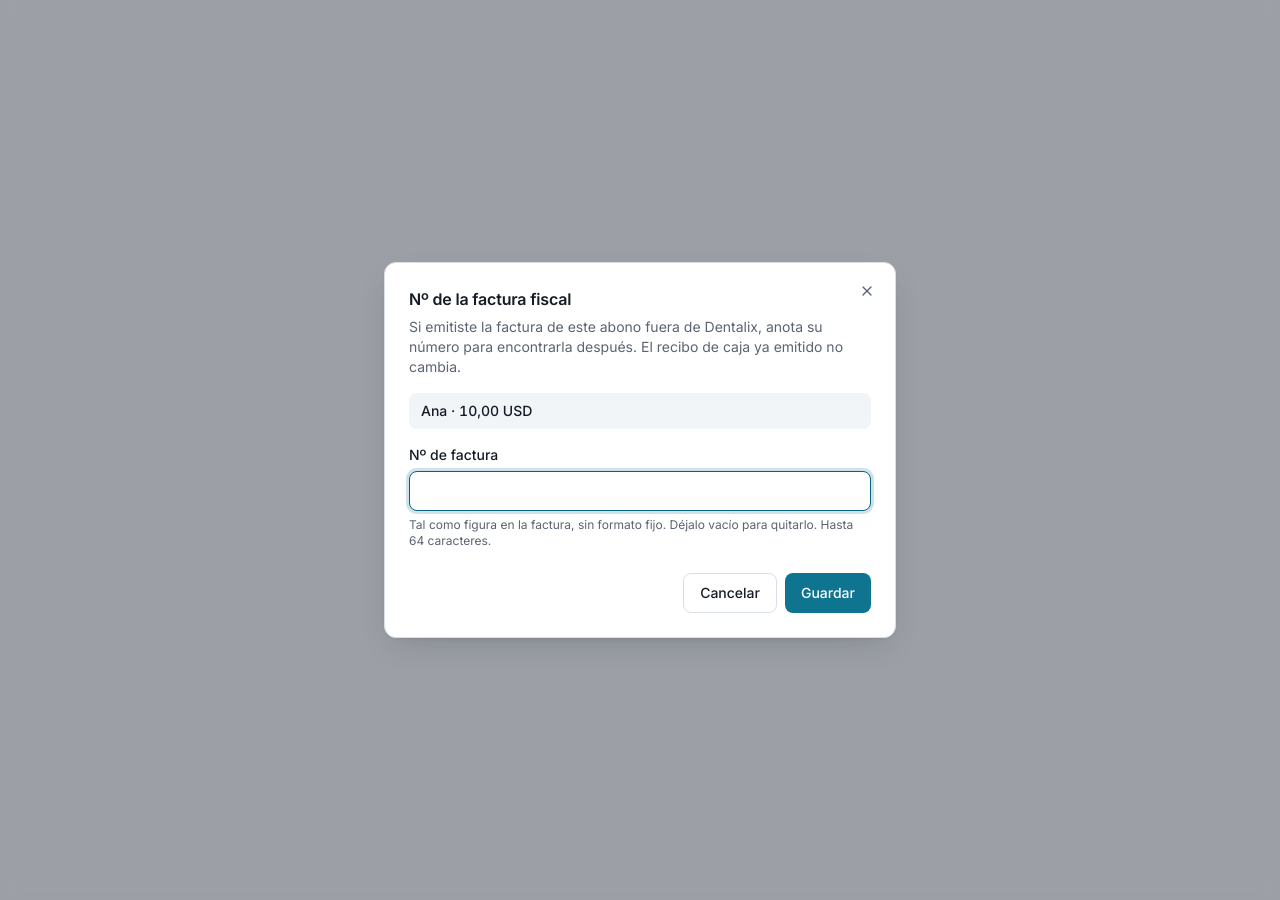
Test: ExternalInvoiceModal (DX-515) › un 409 (abono anulado) se enseña en el diálogo
In the field labelled "Nº de factura": coordinates (640, 491) [409,471,871,511], type "F-2"
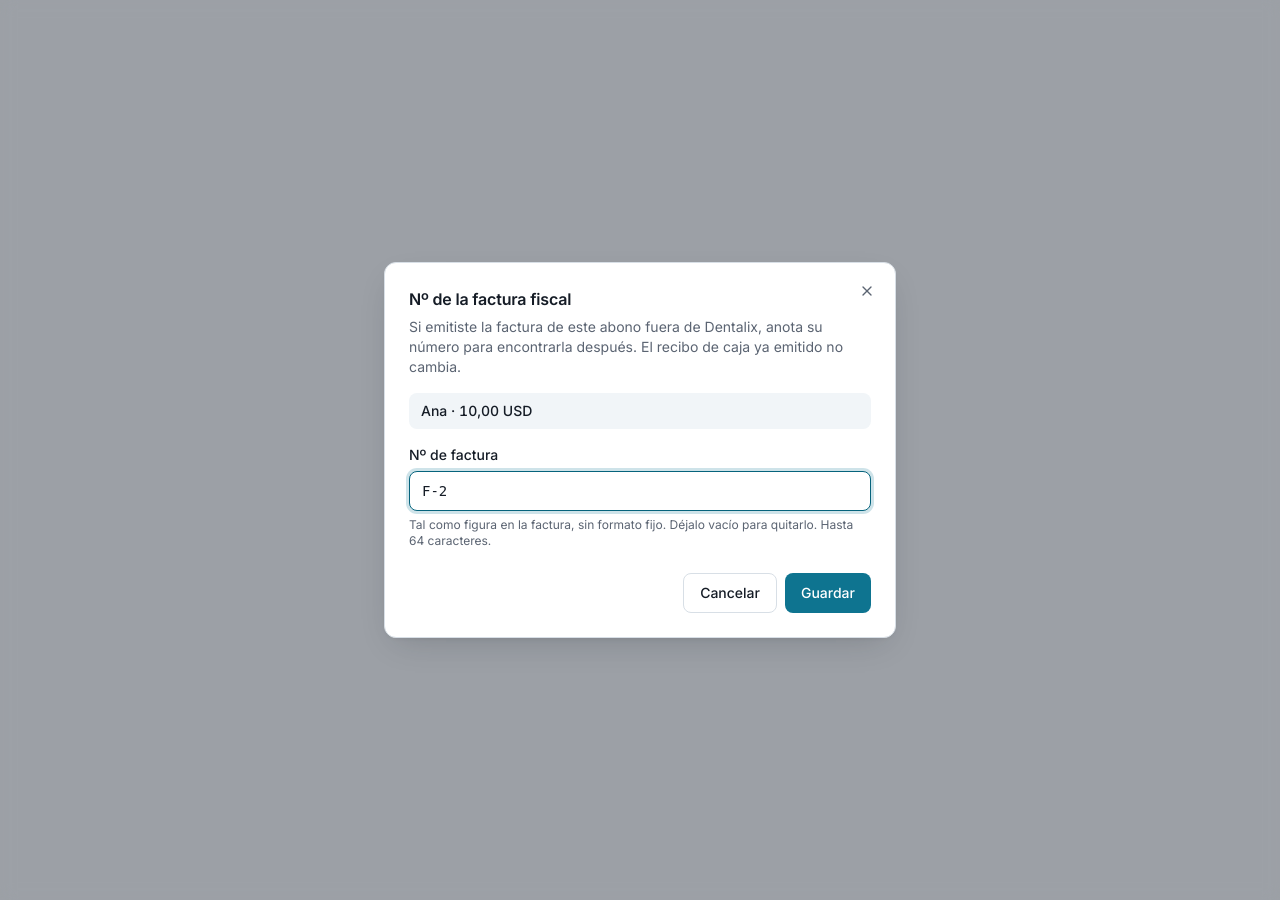
Click the button "Guardar": coordinates (828, 593) [785,573,871,613]
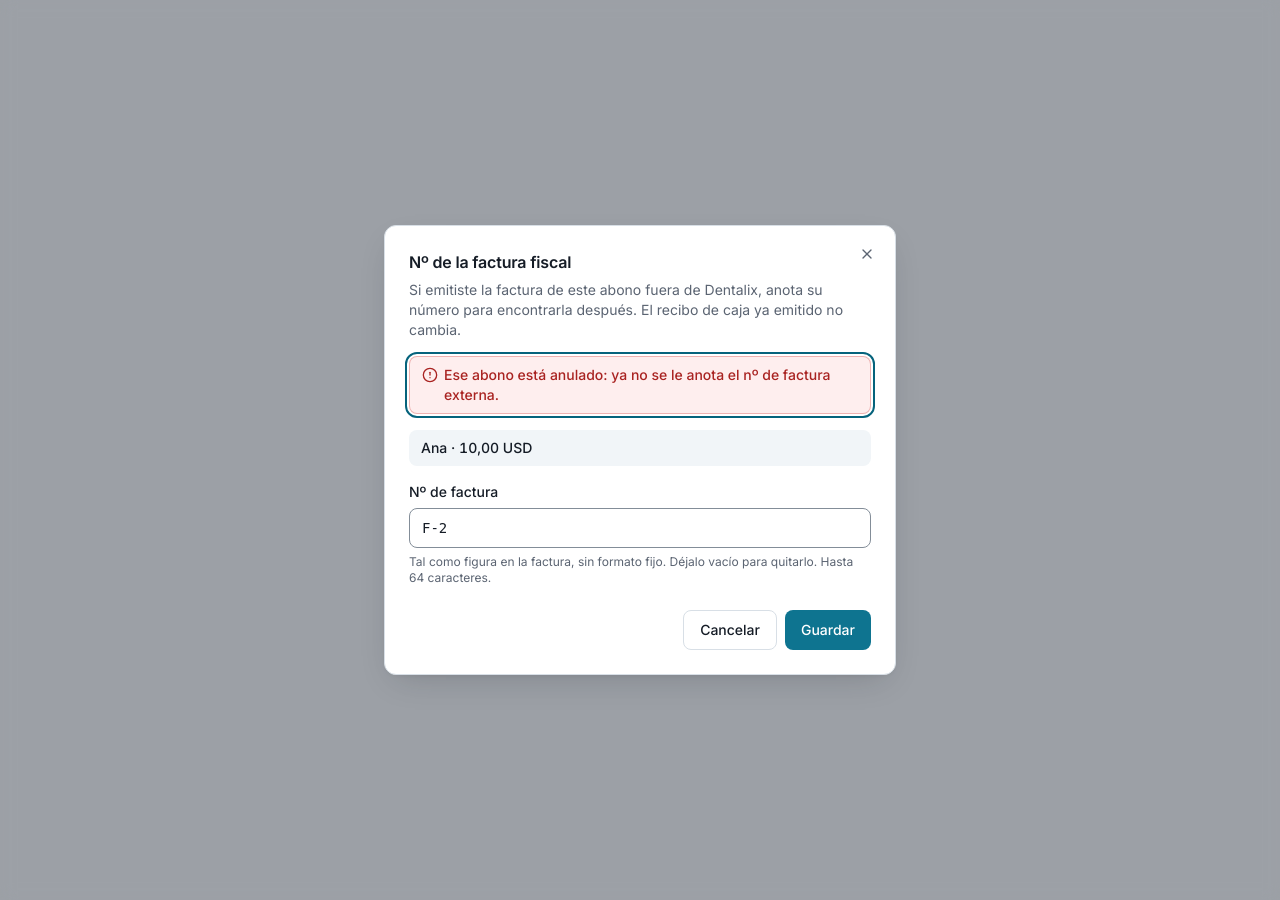
Result: the text "Ese abono está anulado" is shown at [444,366,830,403]
